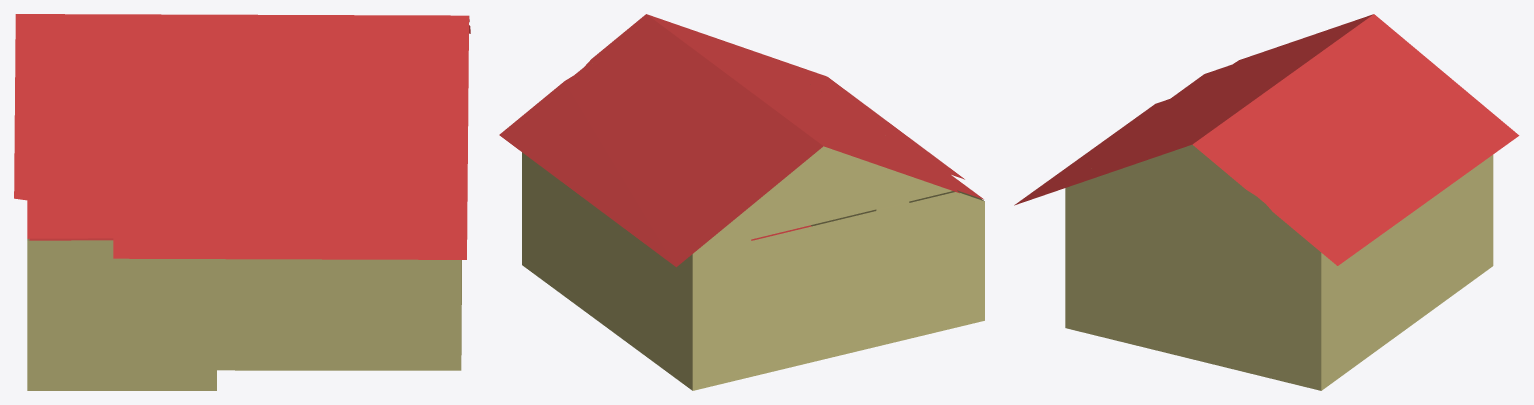
The picture shows the model from 3 angles, left to right: view 1: azimuth 30°, elevation 25°; view 2: azimuth 150°, elevation 25°; view 3: azimuth 270°, elevation 25°; orthographic projection. The views are drawn at different scales.
Size of the model in its own units: 28.84 by 30.26 by 14.35.
